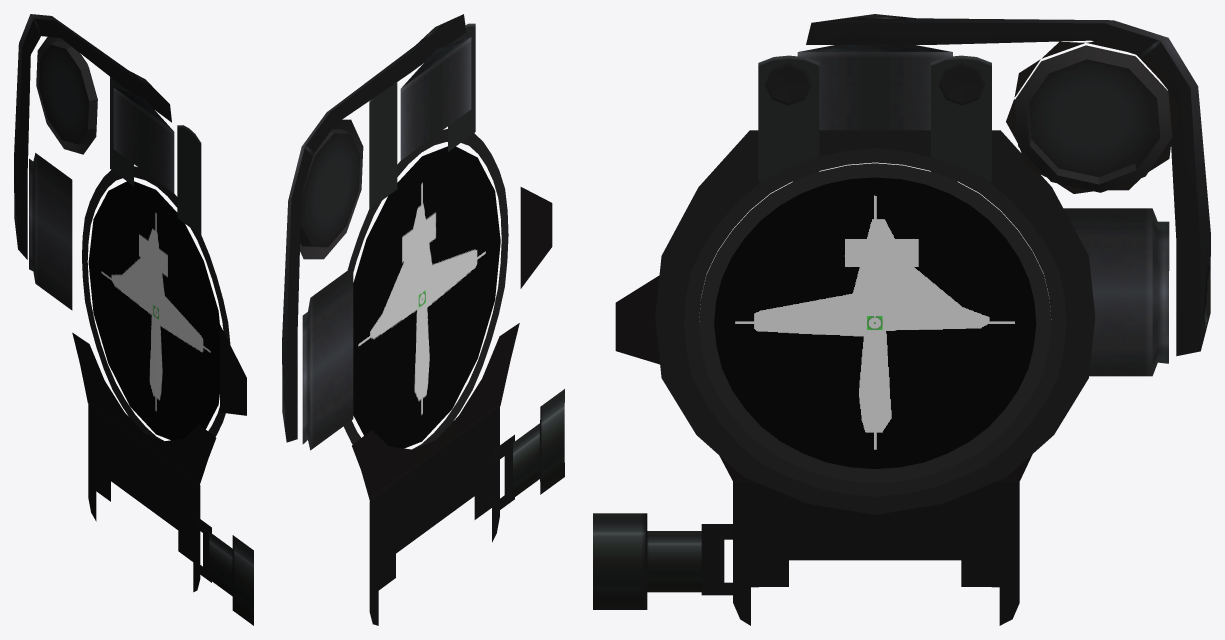
Rendered from Scopes_2xAimpoint_Base_1_Mod_1.FBX.
The picture shows the model from 3 angles, left to right: view 1: azimuth 30°, elevation 25°; view 2: azimuth 150°, elevation 25°; view 3: azimuth 270°, elevation 25°; orthographic projection. The views are drawn at different scales.
Visible parts, largest first — view 1: Scopes_2xAimpoint_Base_1_Mod_1, Lens_2xAimpoint_Base_1_Mod_1; view 2: Scopes_2xAimpoint_Base_1_Mod_1, Lens_2xAimpoint_Base_1_Mod_1; view 3: Scopes_2xAimpoint_Base_1_Mod_1, Lens_2xAimpoint_Base_1_Mod_1.
Boxes of the visible parts, x1,y1,x2,y2 form: Scopes_2xAimpoint_Base_1_Mod_1: (14, 14, 253, 625); Lens_2xAimpoint_Base_1_Mod_1: (88, 181, 219, 440); Scopes_2xAimpoint_Base_1_Mod_1: (282, 14, 564, 625); Lens_2xAimpoint_Base_1_Mod_1: (353, 146, 500, 448); Scopes_2xAimpoint_Base_1_Mod_1: (593, 14, 1210, 625); Lens_2xAimpoint_Base_1_Mod_1: (714, 177, 1036, 468).
Bounding box in the file's own units: 0.3435 × 11.26 × 10.3.
